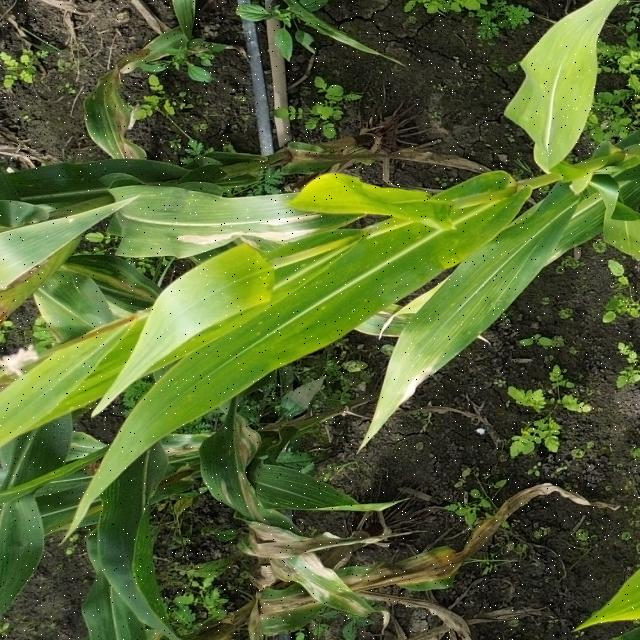northern-leaf-blight: (168, 205, 314, 249), (260, 583, 370, 631), (216, 425, 271, 516), (86, 94, 145, 162)
southern-leaf-blight: (290, 261, 377, 326)
